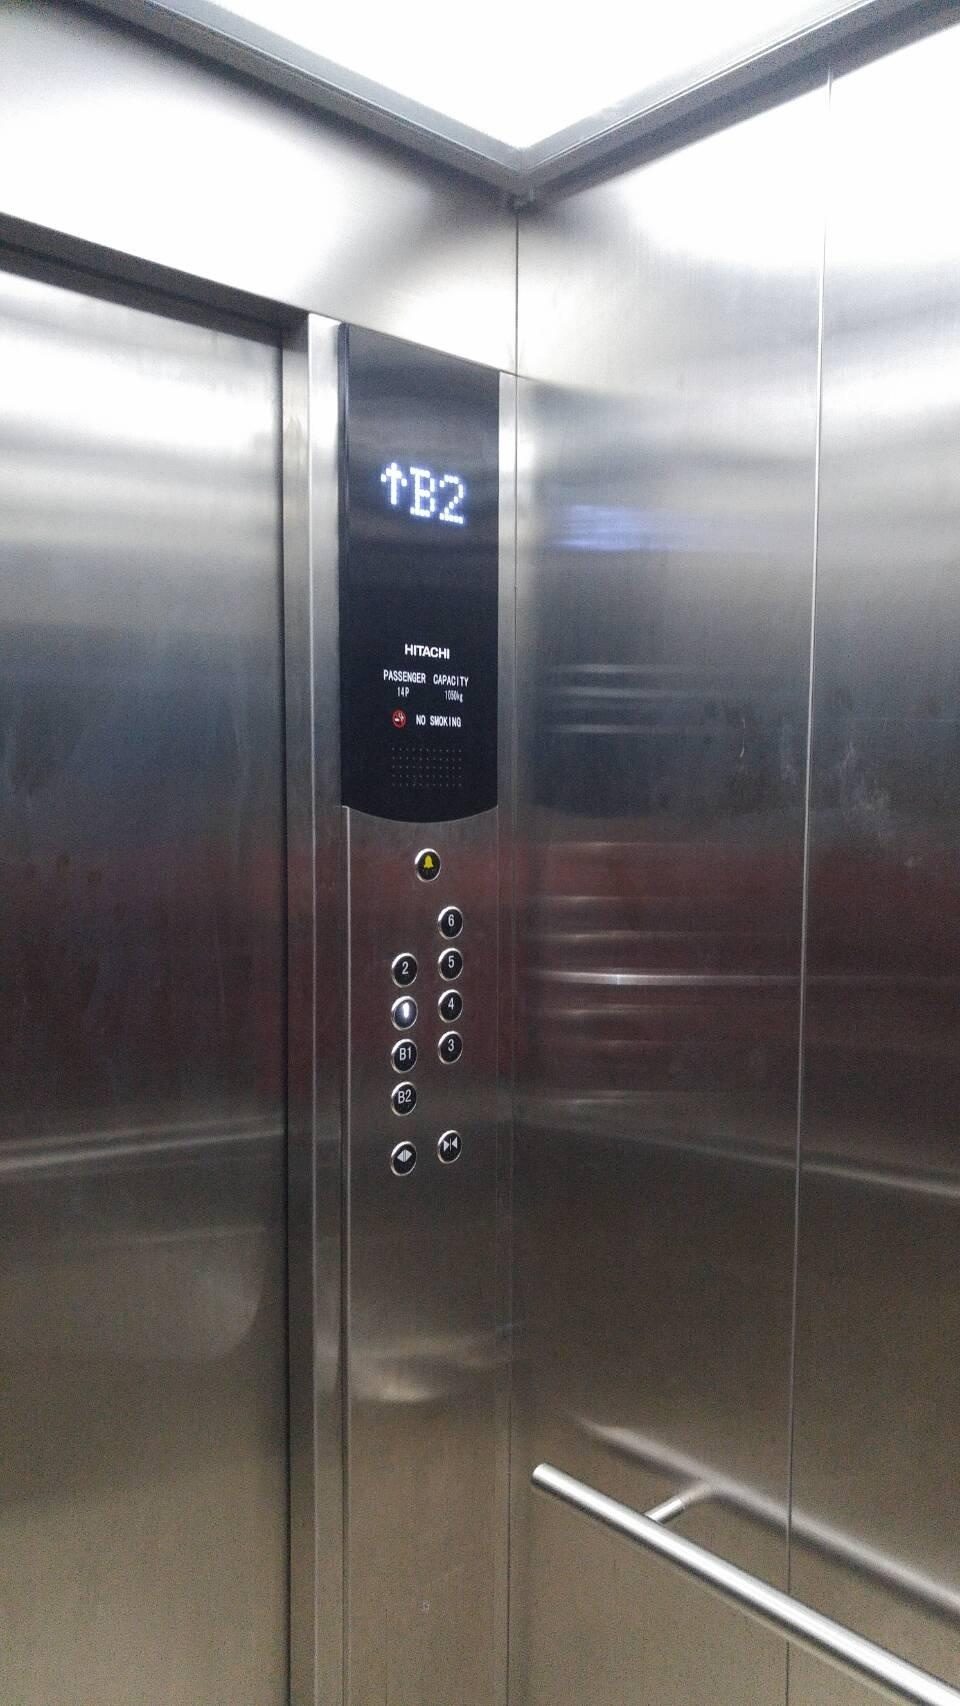1: (388, 992, 420, 1032)
2: (388, 951, 420, 990)
3: (434, 1028, 467, 1067)
4: (434, 987, 467, 1024)
5: (434, 946, 467, 983)
6: (434, 903, 467, 942)
B1: (388, 1037, 420, 1076)
B2: (387, 1079, 418, 1118)
alarm: (411, 846, 444, 885)
close: (433, 1128, 464, 1167)
led: (329, 303, 506, 826)
open: (387, 1138, 418, 1178)
